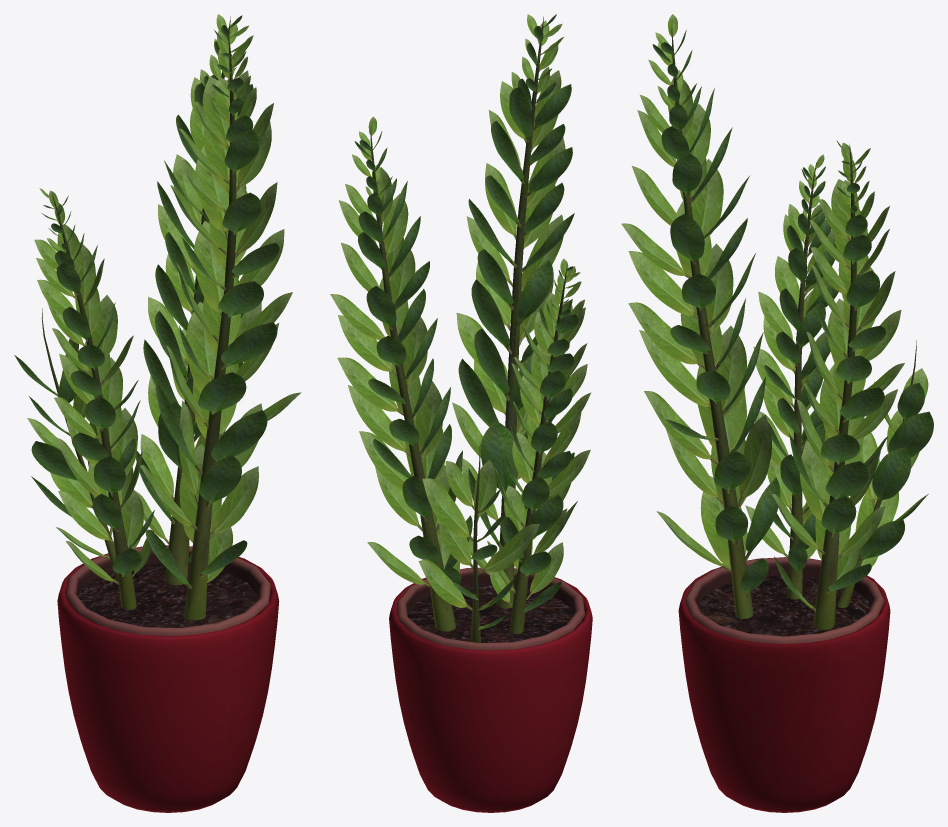
Rendered from plantb.gltf.
3 views of the same model, side by side, from view 1: azimuth 30°, elevation 25°; view 2: azimuth 150°, elevation 25°; view 3: azimuth 270°, elevation 25° (orthographic). The views are drawn at different scales.
Visible parts, largest first — view 1: Circle; view 2: Circle; view 3: Circle.
Boxes of the visible parts, x1,y1,x2,y2 form: Circle: (14,14,301,812); Circle: (330,14,592,812); Circle: (621,14,933,812).
Bounding box in the file's own units: 2.37 × 7.6 × 2.8.
6 materials, 5 textured.
